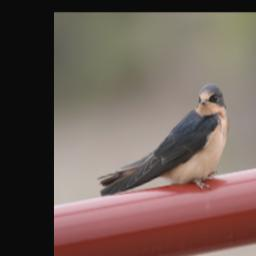Swallow: (90, 77, 235, 215)
